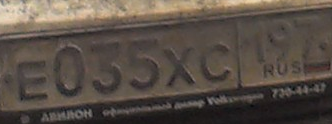character: (86, 39, 125, 97), (126, 37, 161, 94), (50, 44, 88, 96), (197, 40, 233, 86), (162, 44, 197, 89), (16, 57, 50, 103), (293, 14, 322, 62), (266, 18, 294, 65), (243, 20, 267, 65)
